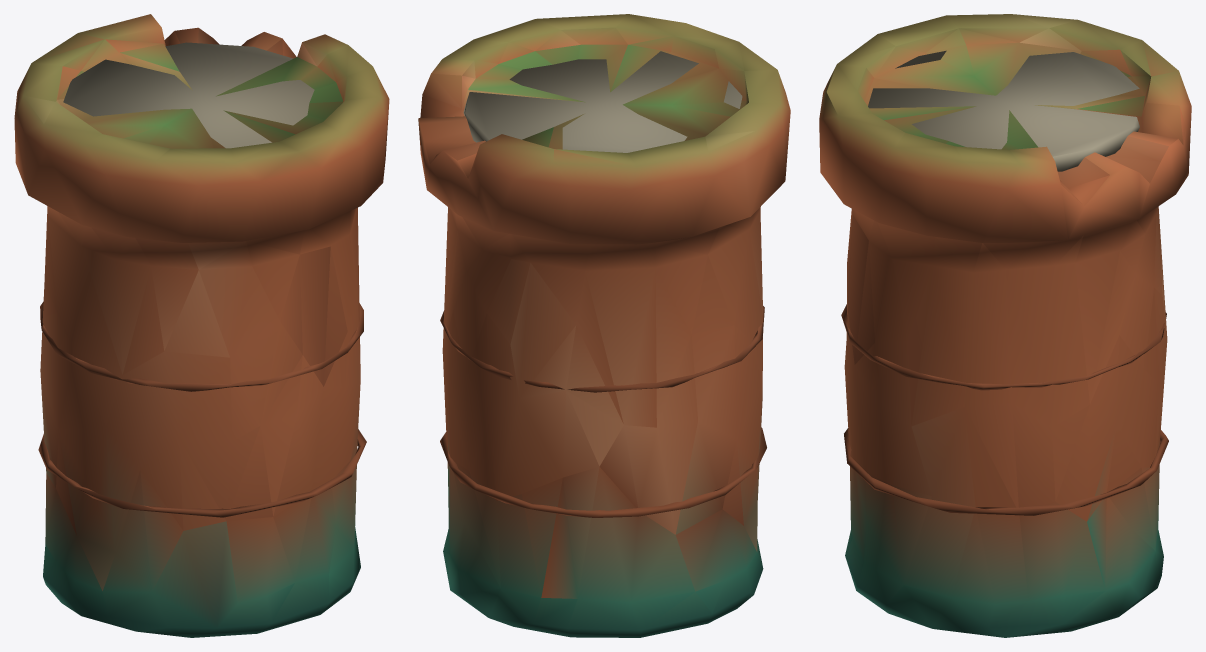
The model's file is grotto_clay_pipe_b_lod2.glb.
3 views of the same model, side by side, from view 1: azimuth 30°, elevation 25°; view 2: azimuth 150°, elevation 25°; view 3: azimuth 270°, elevation 25° (orthographic).
Parts seen in each view (by area): view 1: grotto_clay_pipe_b.001; view 2: grotto_clay_pipe_b.001; view 3: grotto_clay_pipe_b.001.
Part boxes in pixels (<box>): grotto_clay_pipe_b.001: <box>14,14,389,637</box>; grotto_clay_pipe_b.001: <box>418,14,790,637</box>; grotto_clay_pipe_b.001: <box>819,14,1191,637</box>.
Bounding box in the file's own units: 7.02 × 10.04 × 7.
